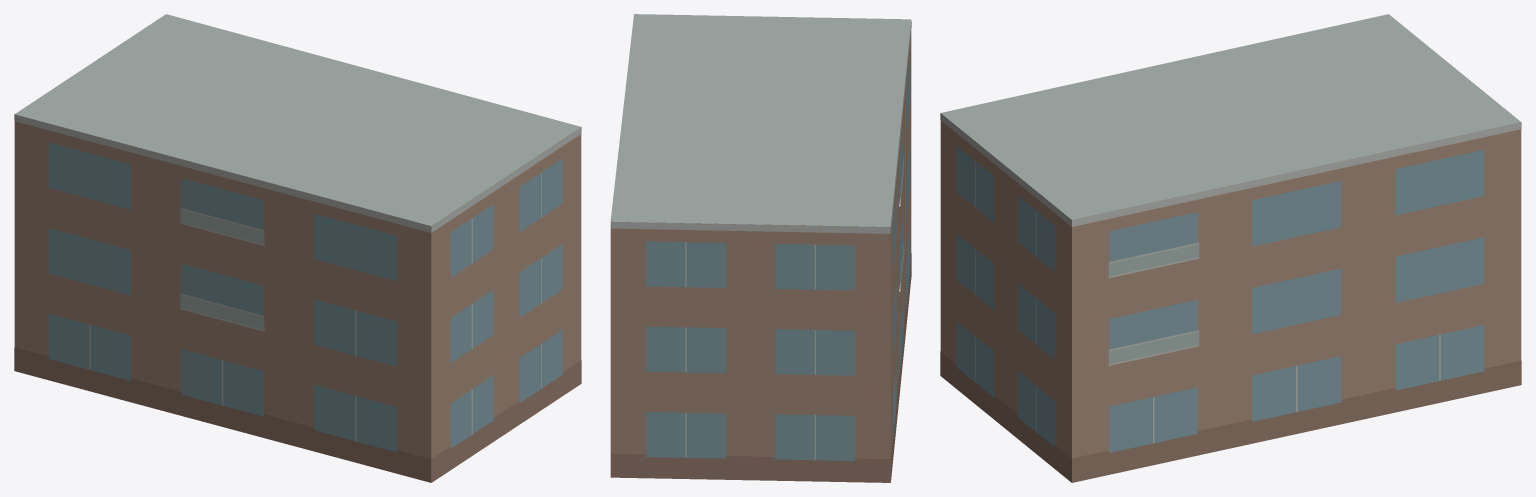
The model's file is survey-upis-32710332.glb.
The picture shows the model from 3 angles, left to right: view 1: azimuth 30°, elevation 25°; view 2: azimuth 150°, elevation 25°; view 3: azimuth 270°, elevation 25°; orthographic projection. The views are drawn at different scales.
Visible parts, largest first — view 1: survey-upis-32710332.tmp; view 2: survey-upis-32710332.tmp; view 3: survey-upis-32710332.tmp.
Boxes of the visible parts, x1,y1,x2,y2 form: survey-upis-32710332.tmp: (14, 14, 581, 482); survey-upis-32710332.tmp: (610, 14, 911, 482); survey-upis-32710332.tmp: (940, 14, 1521, 482).
Size of the model in its own units: 15.39 by 9.15 by 18.34.
